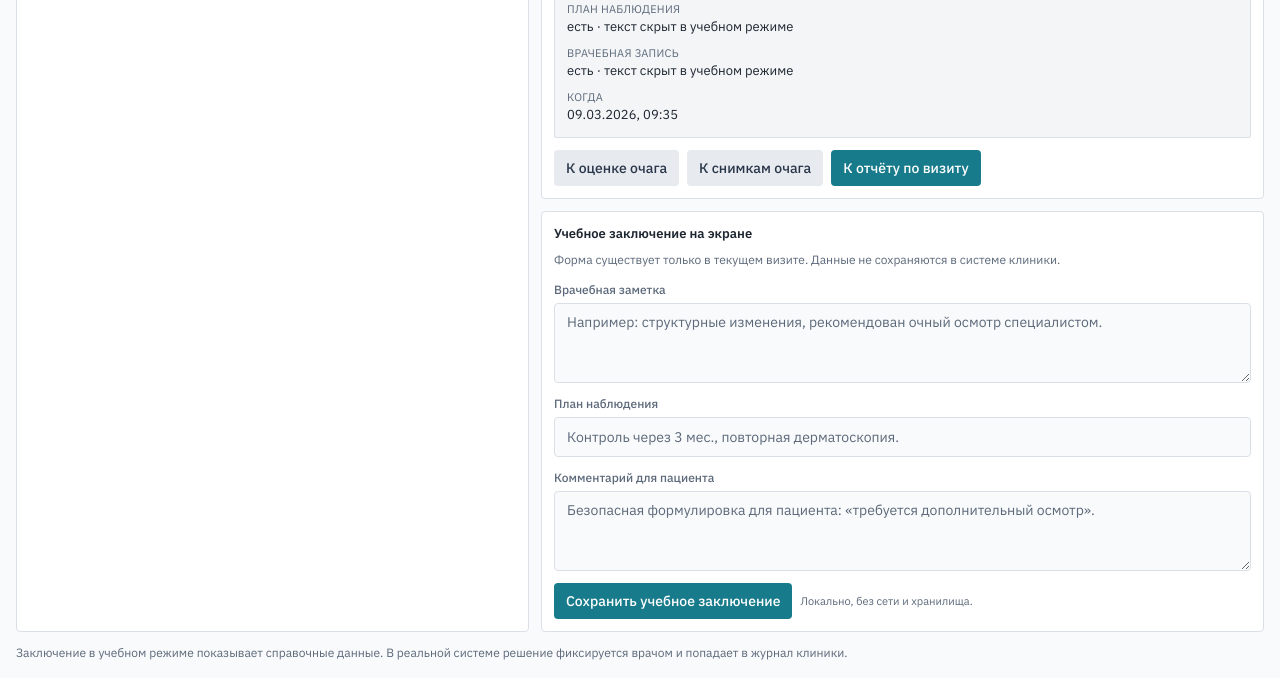
VisitConclusionTab · learning conclusion form › 'Сохранить учебное заключение' shows local preview and does not mutate mock data
(page scrolled)
Replace the text in the text box labelled "Врачебная заметка" with "Внутренние детали для врача.": [902, 343] box [554, 303, 1251, 383]
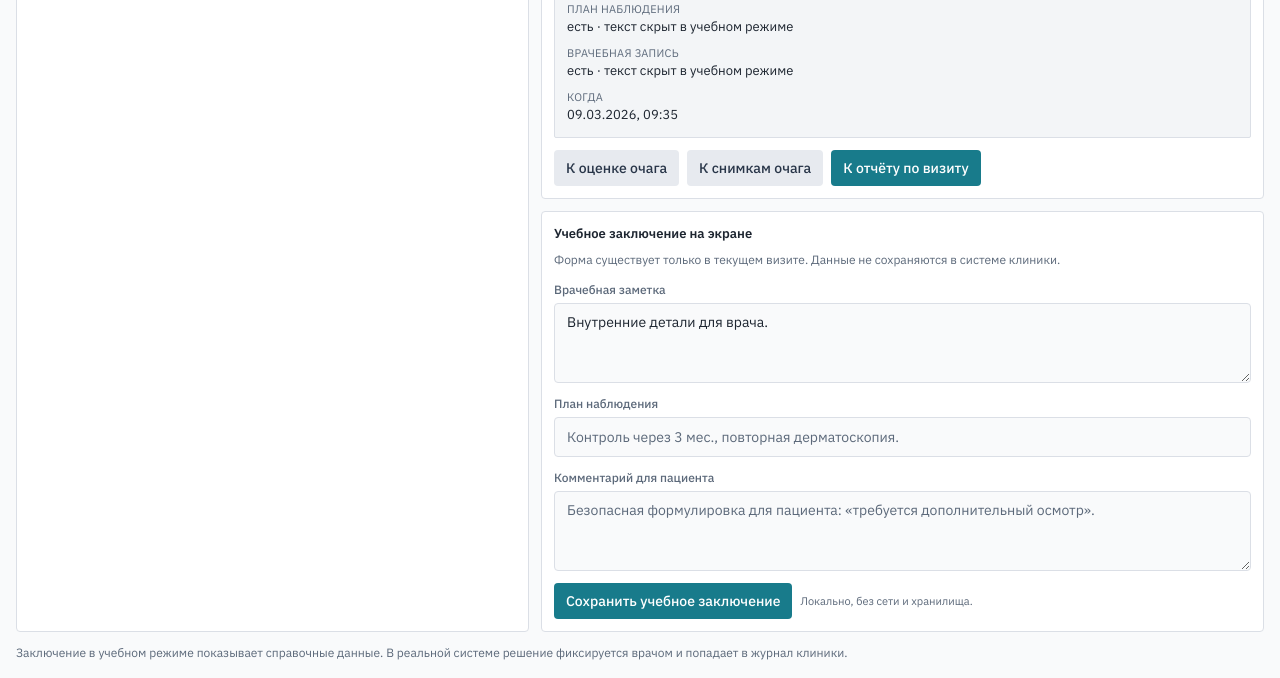
Replace the text in the text box labelled "Комментарий для пациента" with "Рекомендована очная консультация.": [902, 531] box [554, 491, 1251, 571]
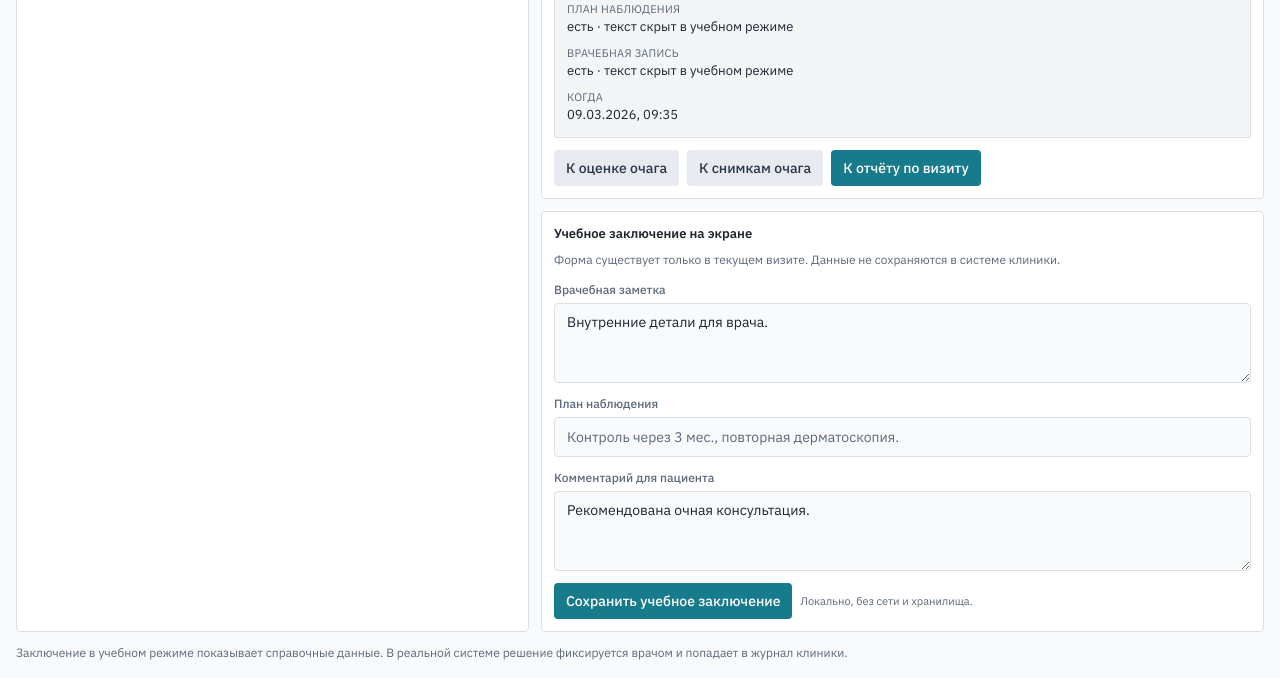
Click the button "Сохранить учебное заключение": [673, 601] box [554, 583, 792, 619]
(page scrolled)
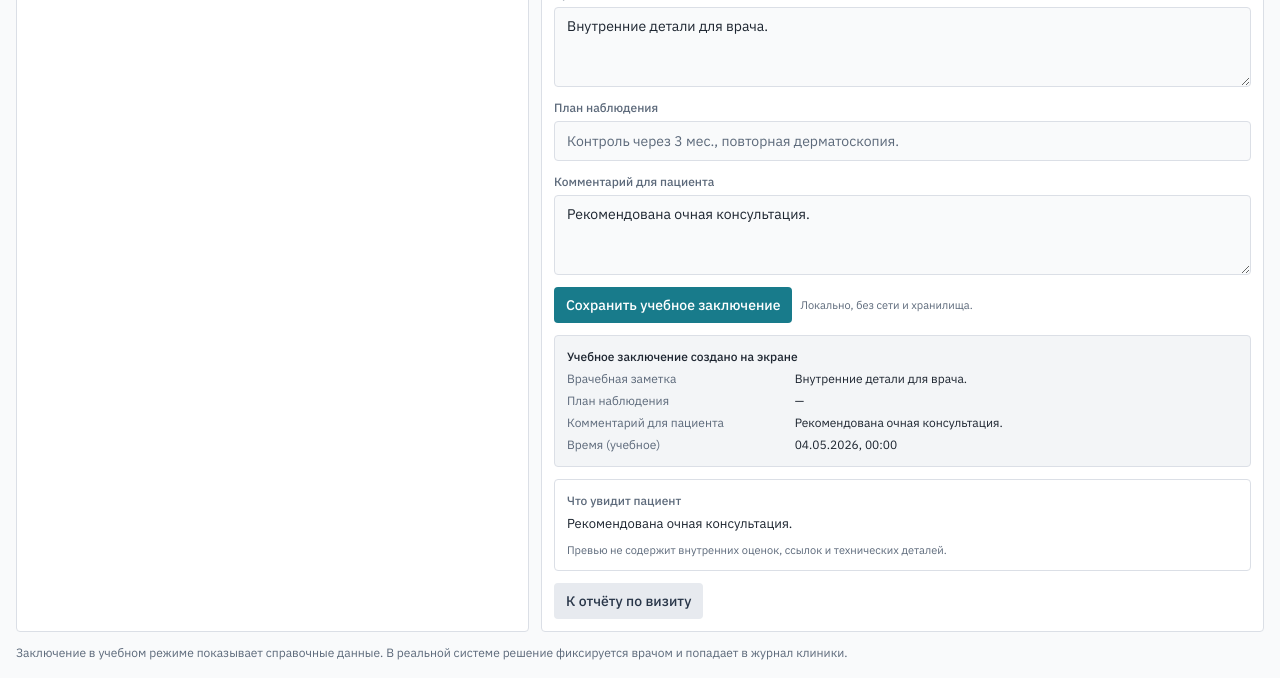
Result: the message with test id "demo-conclusion-preview" shows "Учебное заключение создано на экране" at [567, 349, 798, 364]
